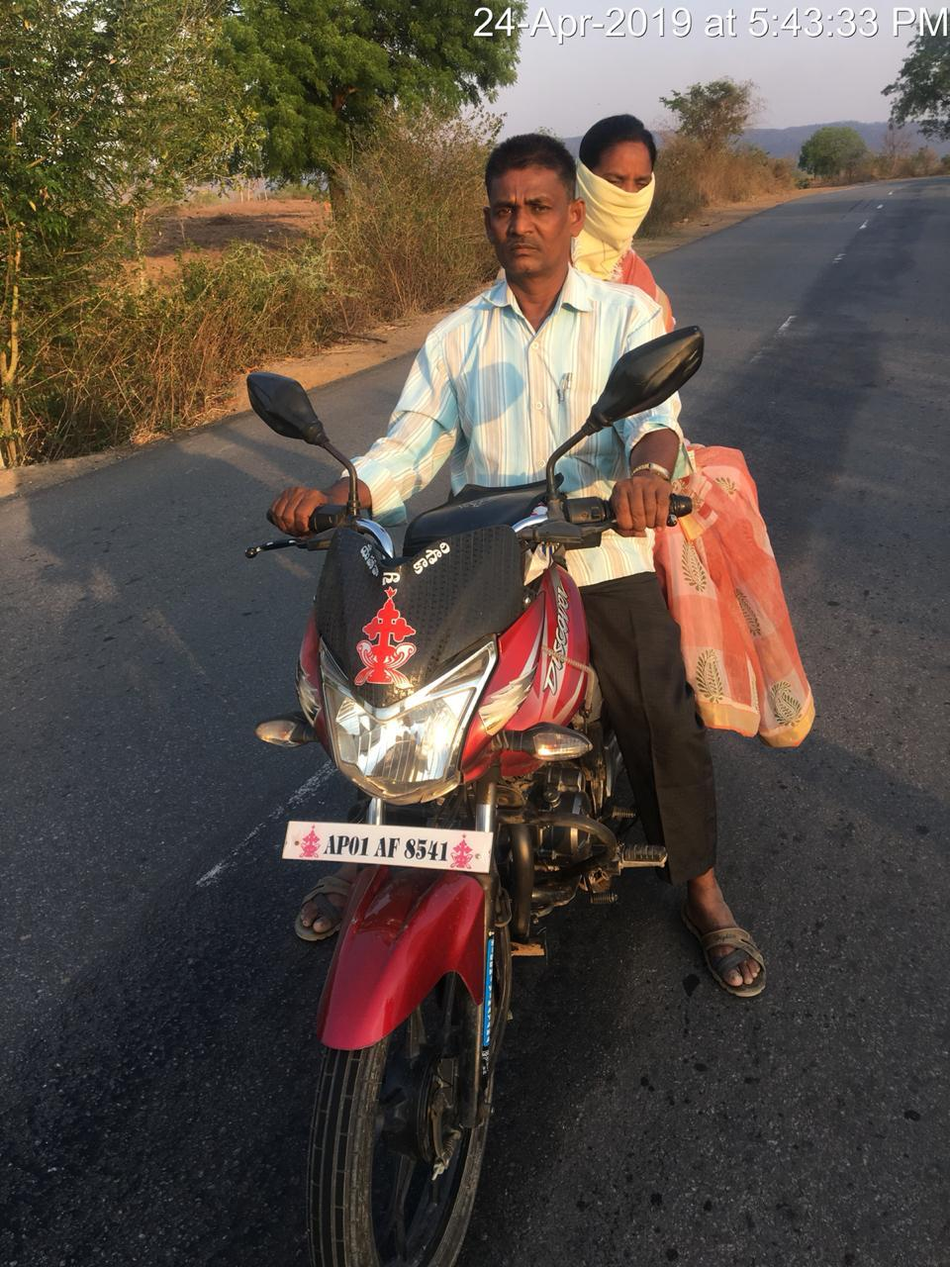plate: (272, 788, 520, 904)
